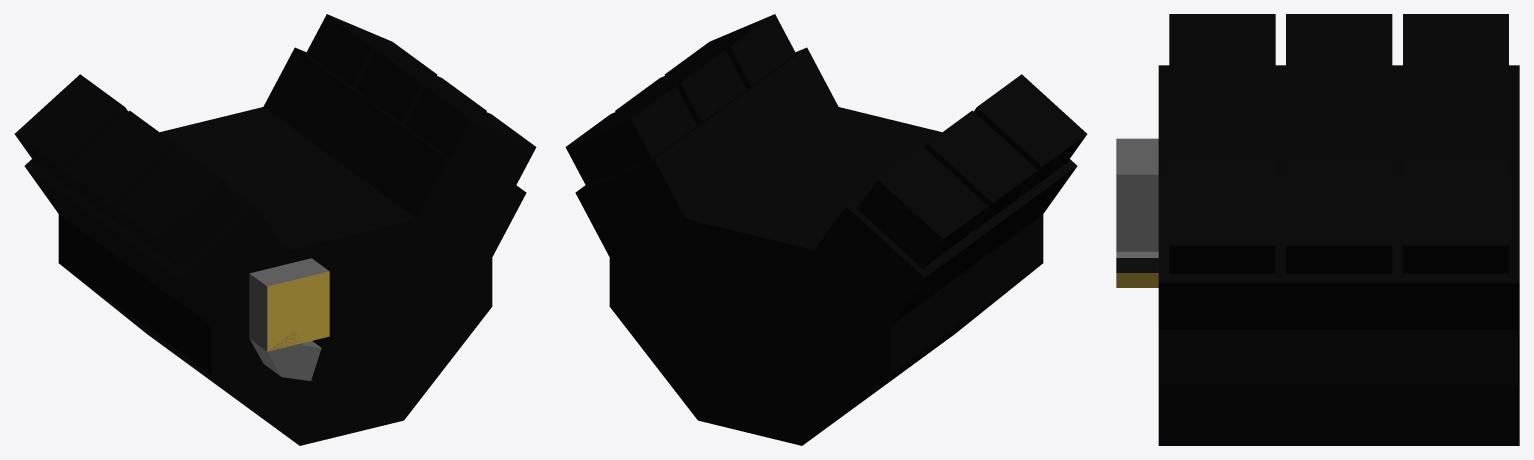
File: v6insolvoturbo.obj
3 renders of one model, left to right at view 1: azimuth 30°, elevation 25°; view 2: azimuth 150°, elevation 25°; view 3: azimuth 270°, elevation 25°, orthographic. The views are drawn at different scales.
Visible parts, largest first — view 1: cube, turbo; view 2: cube; view 3: cube, turbo.
Part boxes in pixels (x1,y1,x2,y2): cube: (14, 14, 536, 445); turbo: (249, 258, 329, 380); cube: (565, 14, 1087, 445); cube: (1158, 14, 1519, 445); turbo: (1116, 138, 1158, 287).
Size of the model in its own units: 0.8872 by 0.629 by 0.6946.
